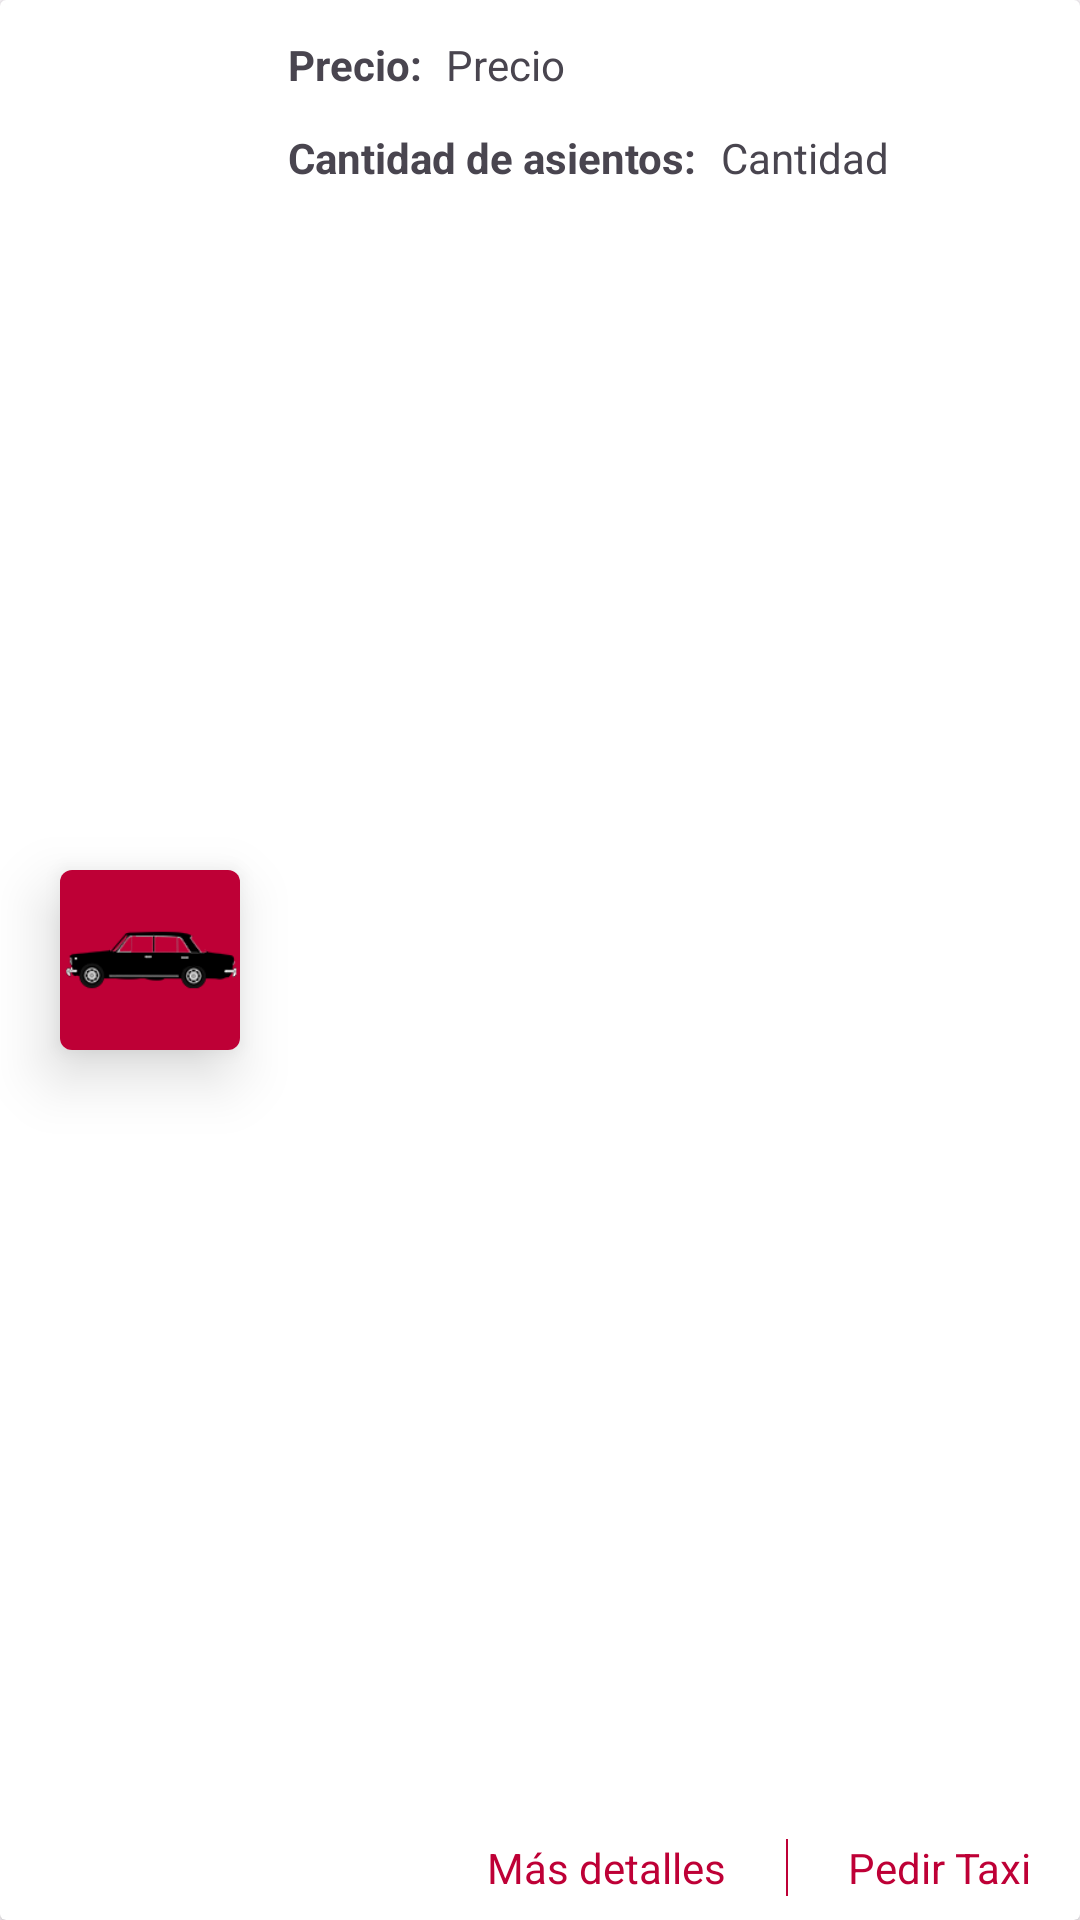

Where icons sit on this 1080×1920 app screen, as (x1, y1, x2, y2):
drive eta: (60, 870, 240, 1050)
